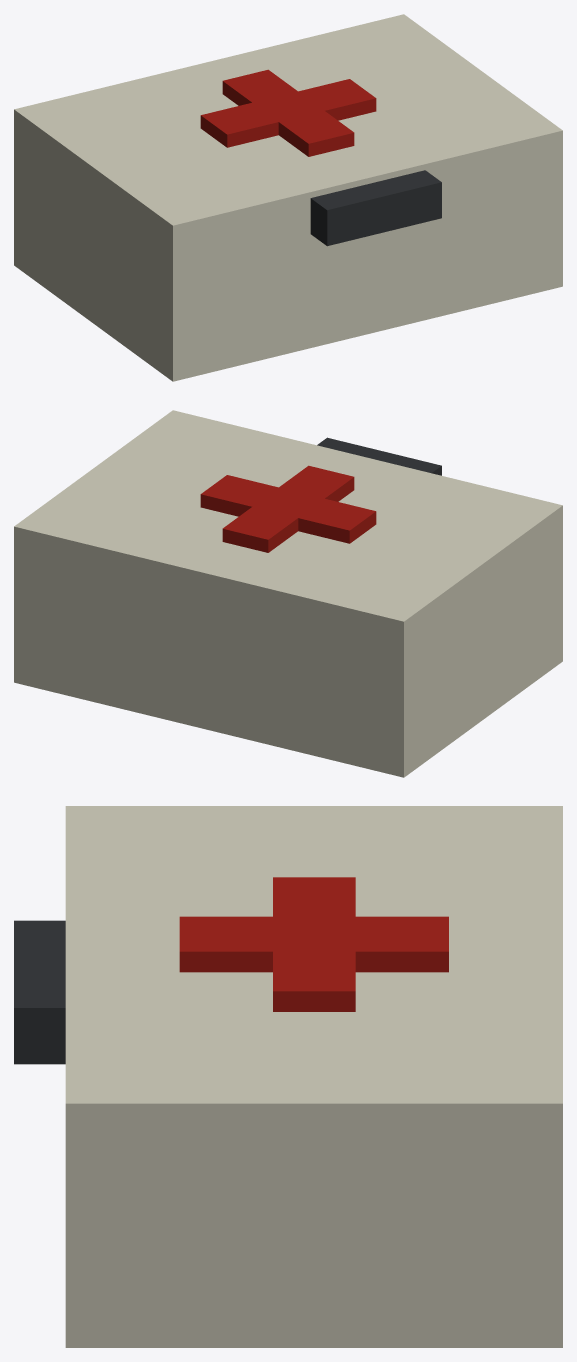
The model's file is Item_Medkit.fbx.
3 renders of one model, top to bottom at view 1: azimuth 30°, elevation 25°; view 2: azimuth 150°, elevation 25°; view 3: azimuth 270°, elevation 25°, orthographic. The views are drawn at different scales.
Parts seen in each view (by area): view 1: Item_Medkit; view 2: Item_Medkit; view 3: Item_Medkit.
Boxes of the visible parts, left/top/right/bottom form: Item_Medkit: left=14, top=14, right=562, bottom=381; Item_Medkit: left=14, top=410, right=562, bottom=777; Item_Medkit: left=14, top=806, right=562, bottom=1347.
Size of the model in its own units: 0.34 by 0.141 by 0.265.
